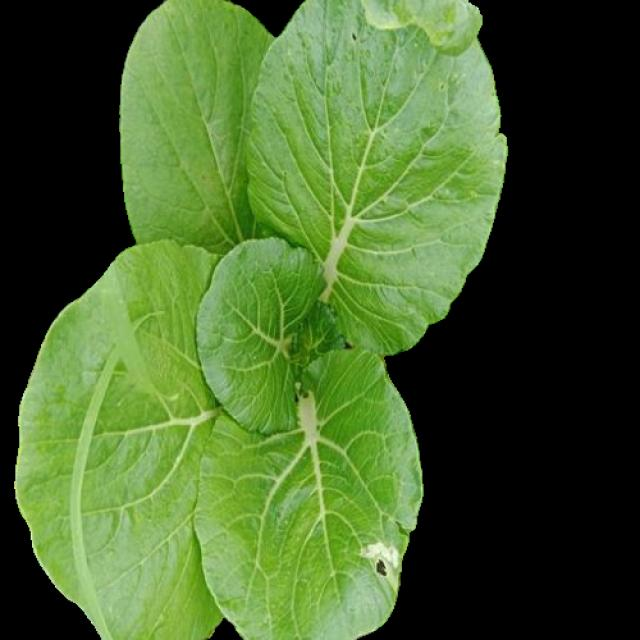mature: (3, 1, 506, 638)
unhealthy: (251, 4, 500, 354), (198, 353, 418, 635)
